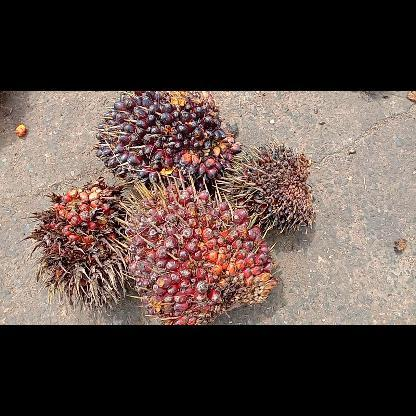Kurang masak: (93, 91, 243, 199)
TBS abnormal: (223, 140, 318, 238)
TBS masak: (118, 184, 276, 324)
Terlalu masak: (15, 176, 127, 314)
